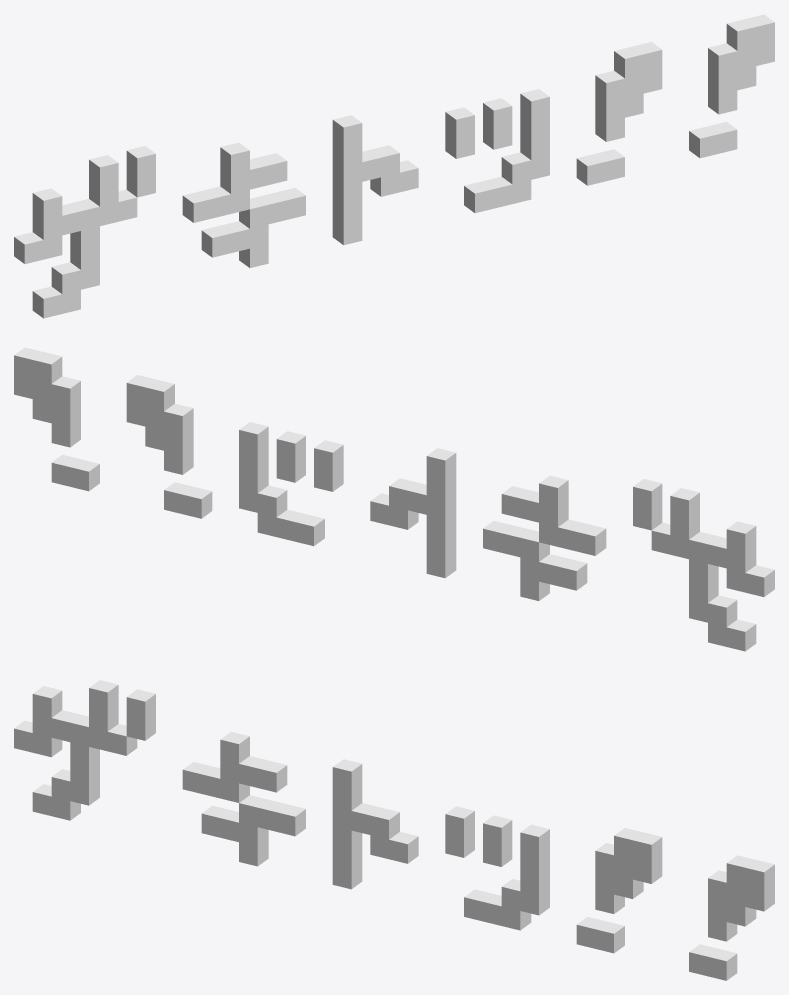
File: Gekitotsu.obj
The picture shows the model from 3 angles, top to bottom: view 1: azimuth 30°, elevation 25°; view 2: azimuth 150°, elevation 25°; view 3: azimuth 330°, elevation 25°; orthographic projection.
Bounding box in the file's own units: 4 × 0.7 × 0.1.
